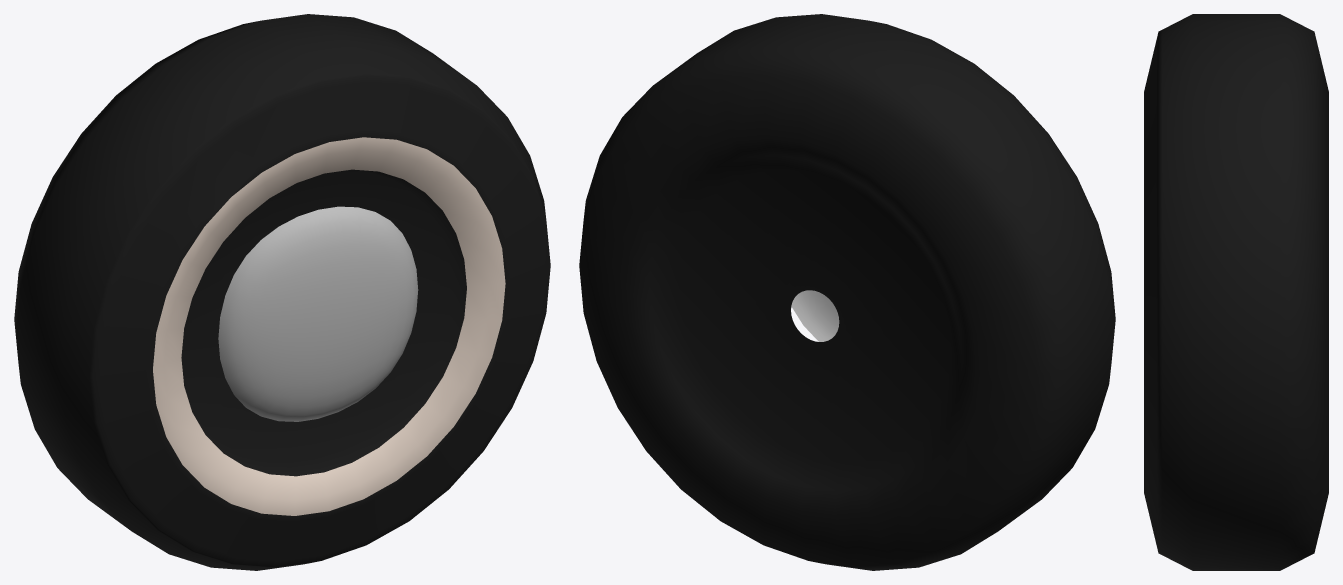
File: Wheel01.glb
The picture shows the model from 3 angles, left to right: view 1: azimuth 30°, elevation 25°; view 2: azimuth 150°, elevation 25°; view 3: azimuth 270°, elevation 25°; orthographic projection.
Parts seen in each view (by area): view 1: Cylinder; view 2: Cylinder; view 3: Cylinder.
Part boxes in pixels (left/top/right/bottom): Cylinder: left=14, top=14, right=550, bottom=570; Cylinder: left=579, top=14, right=1115, bottom=570; Cylinder: left=1144, top=14, right=1328, bottom=570.
Bounding box in the file's own units: 0.7253 × 0.7253 × 0.2403.
